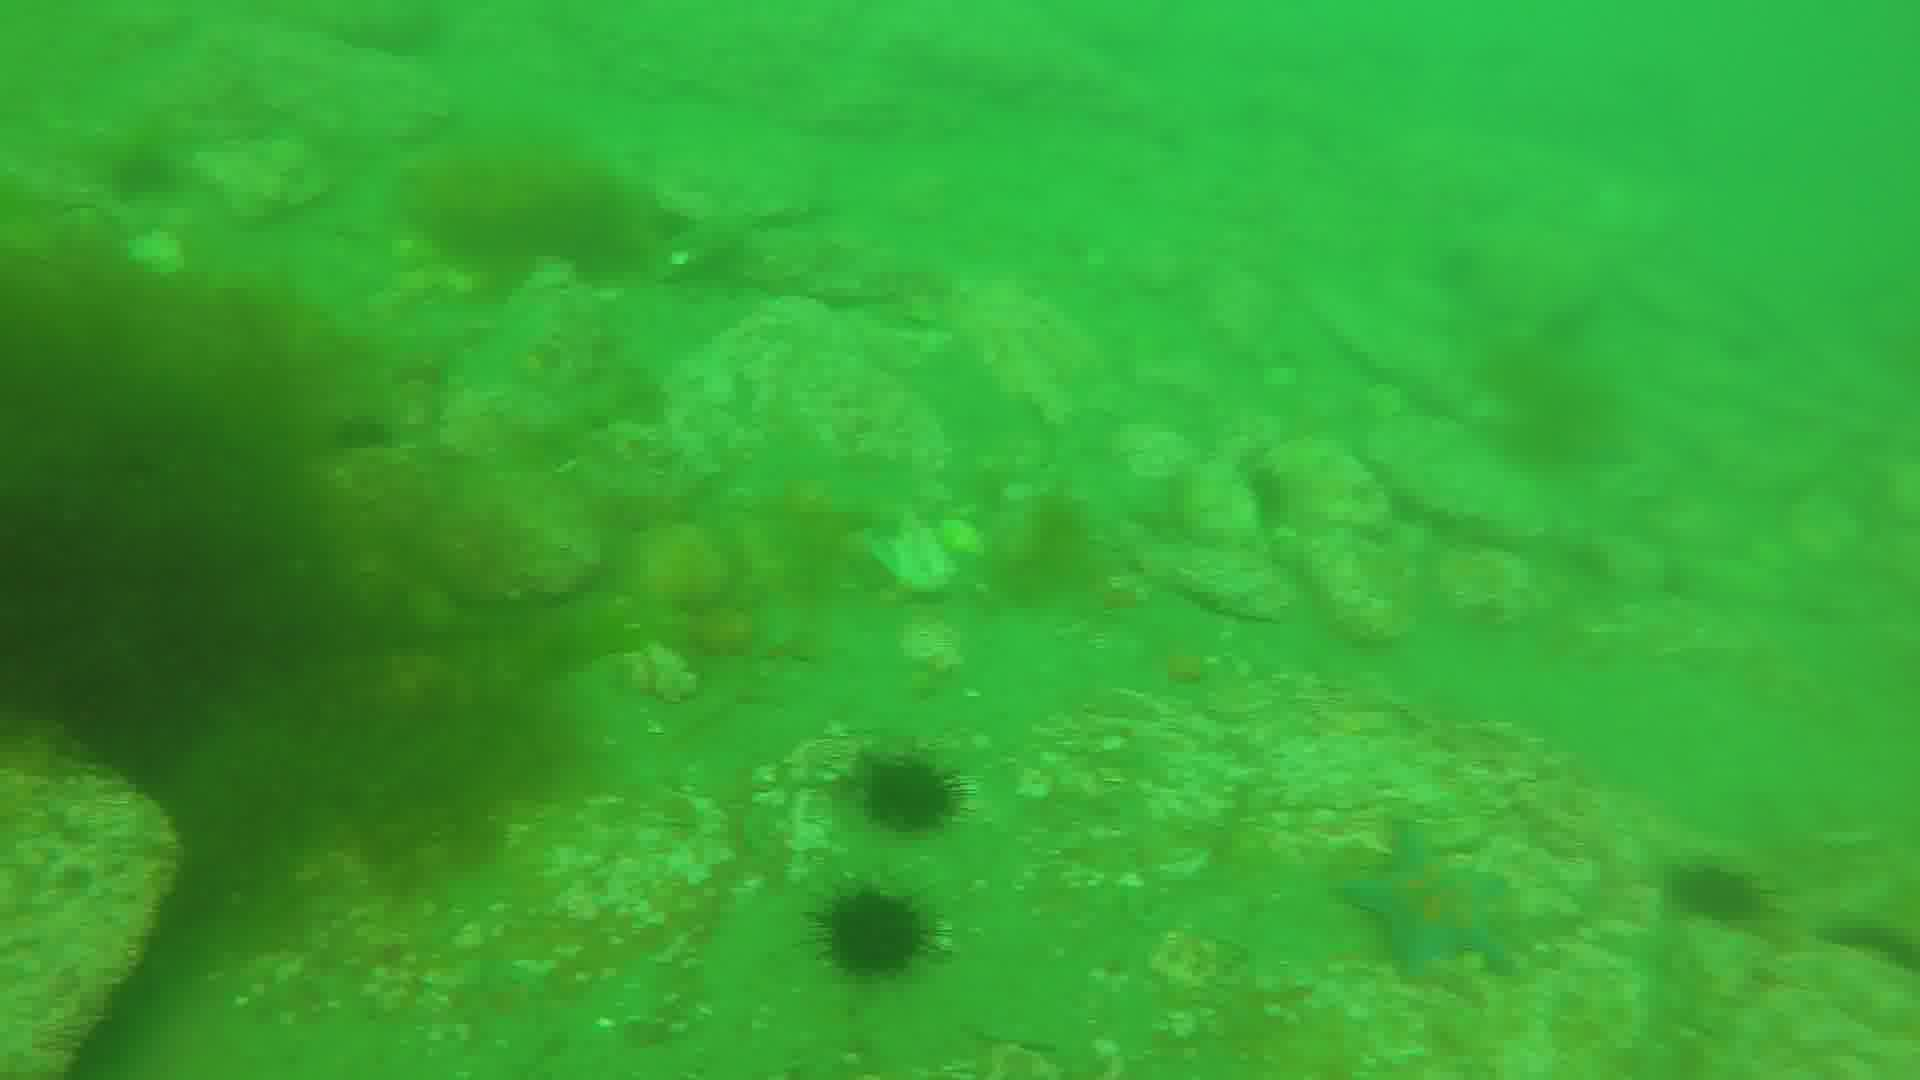echinus: (818, 881, 935, 981), (856, 750, 957, 839), (1820, 916, 1920, 1000), (1676, 862, 1774, 939), (105, 140, 189, 214)
starfish: (1345, 823, 1518, 988)
